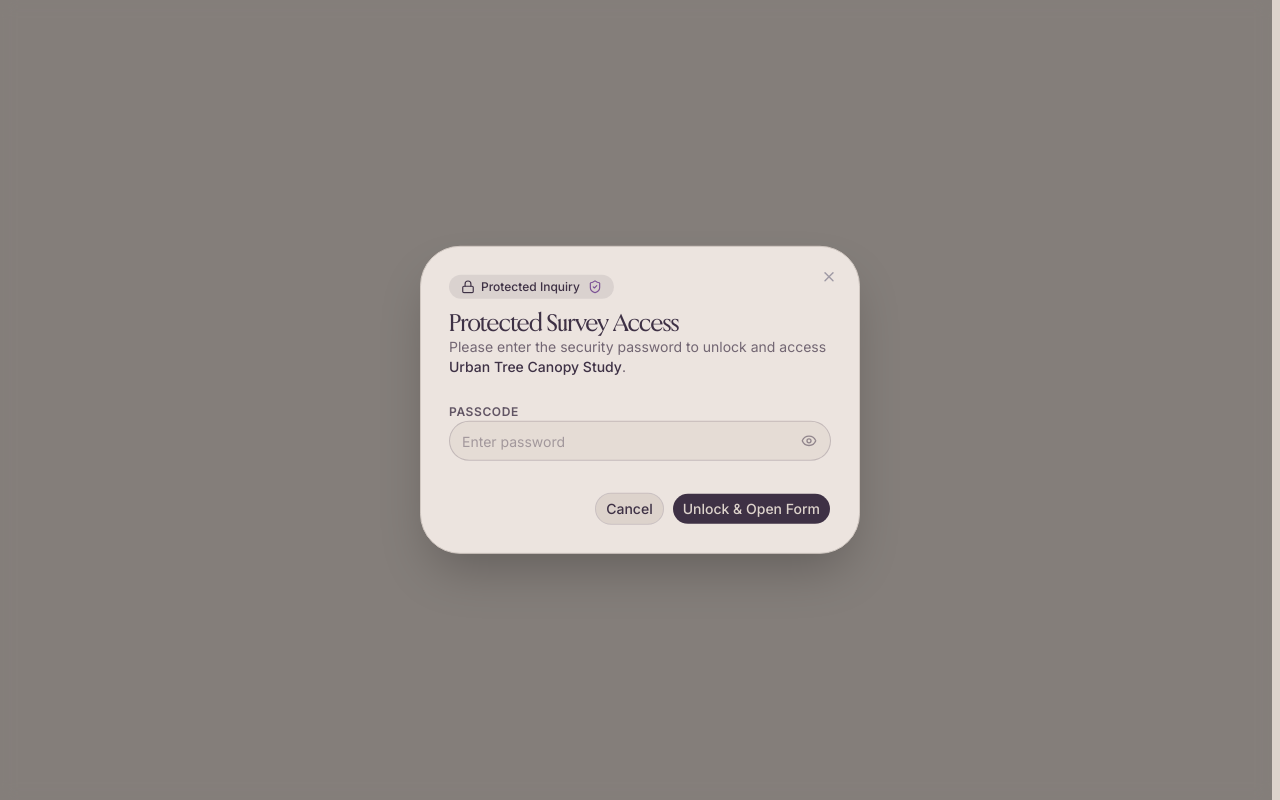
Scenario: PasswordFormDialog › clears error message when user starts typing again
In the password field with placeholder "Enter password": (640, 441) top-left (449, 421), bottom-right (831, 461), type "wrong"
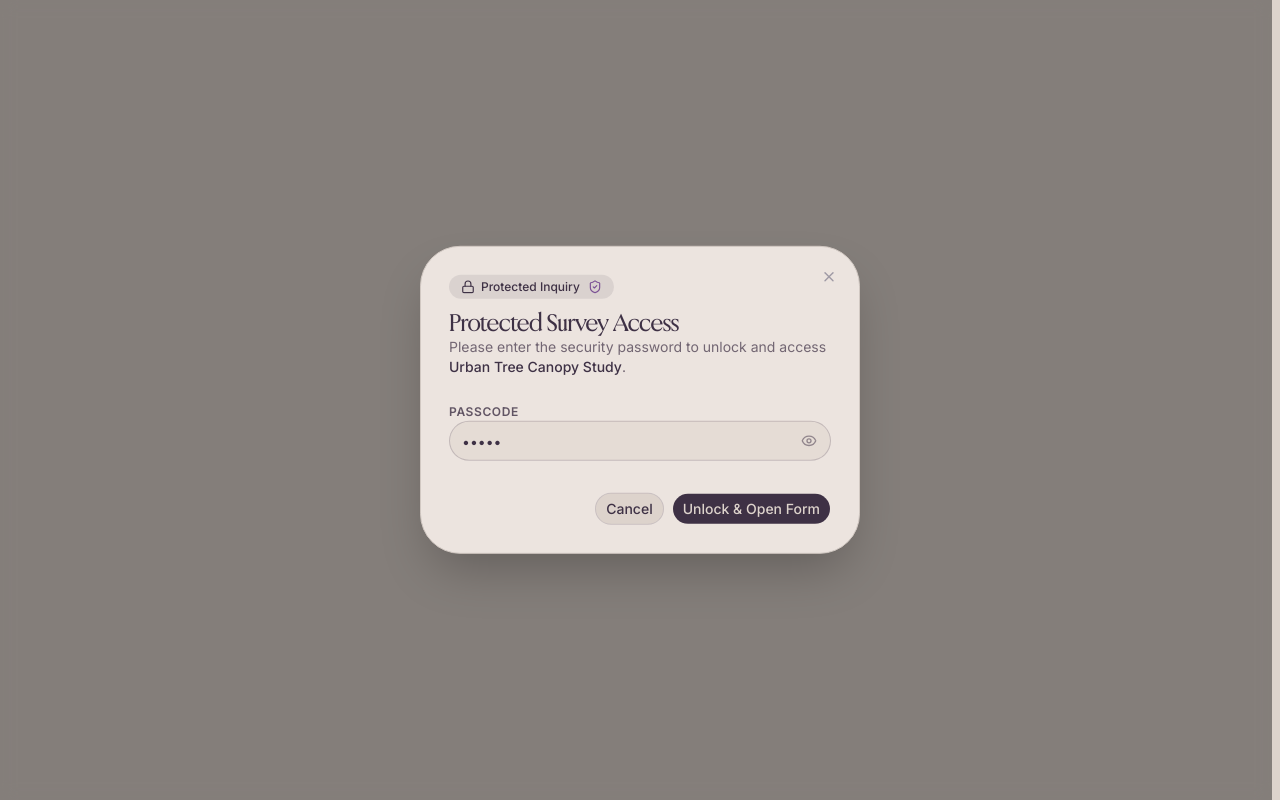
Click the button "Unlock & Open Form": (751, 509) top-left (672, 493), bottom-right (831, 525)
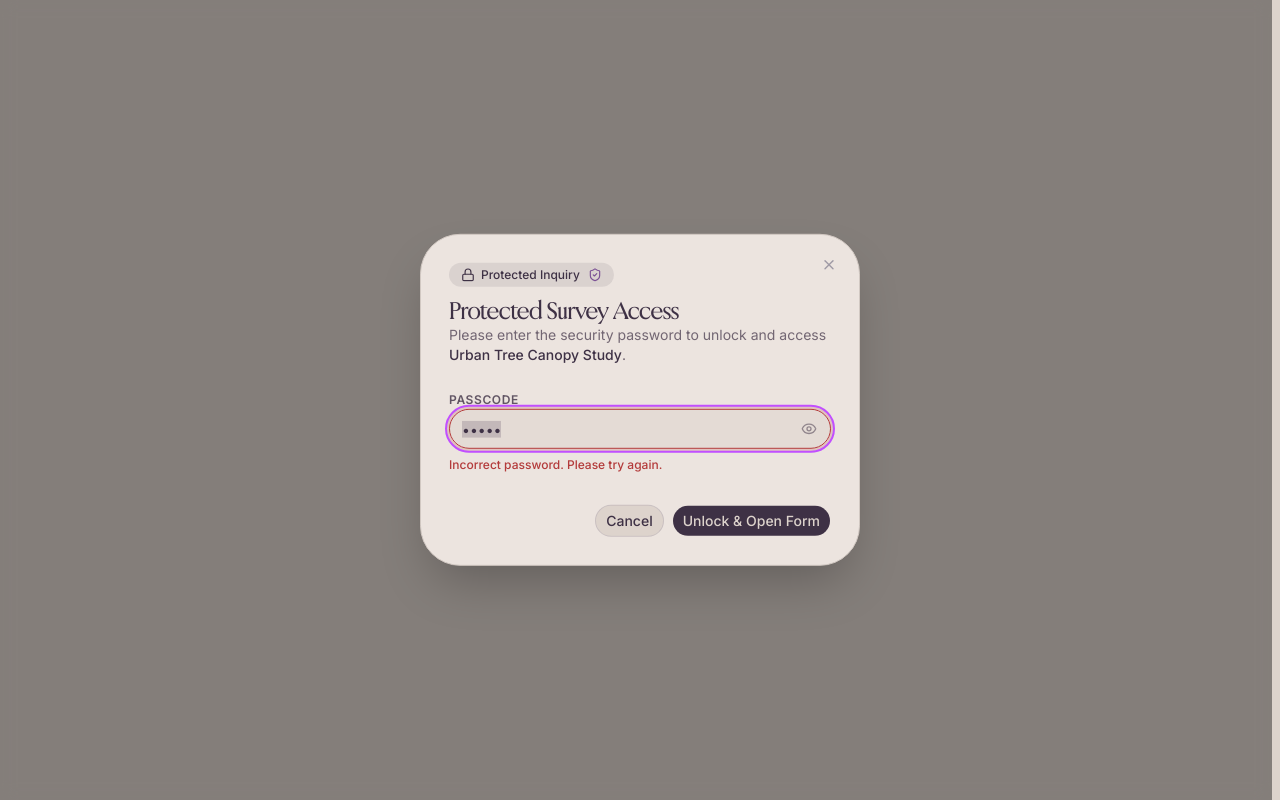
Result: the text "Incorrect password. Please try again." is shown at top-left (449, 457), bottom-right (662, 472)
In the password field with placeholder "Enter password": (640, 429) top-left (449, 409), bottom-right (831, 449), type "wrong1"
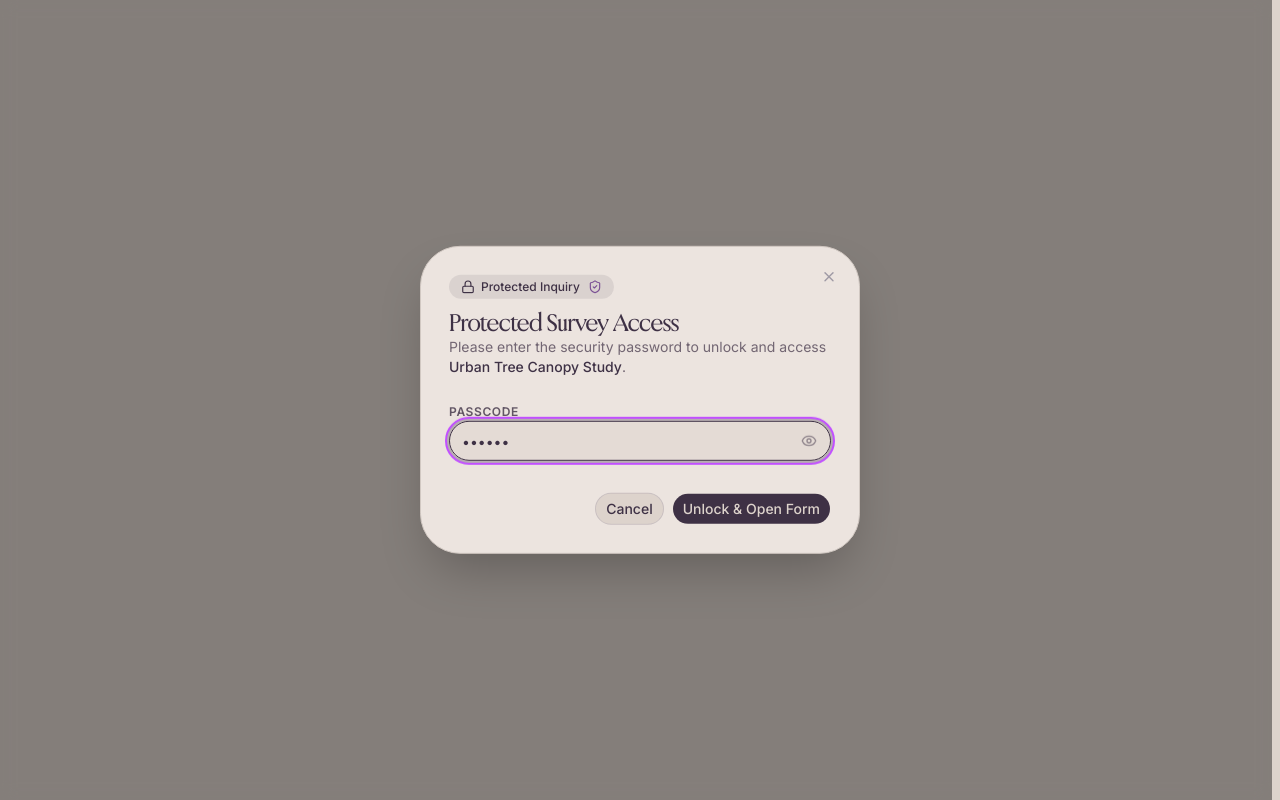
Result: the text "Incorrect password. Please try again." is gone
